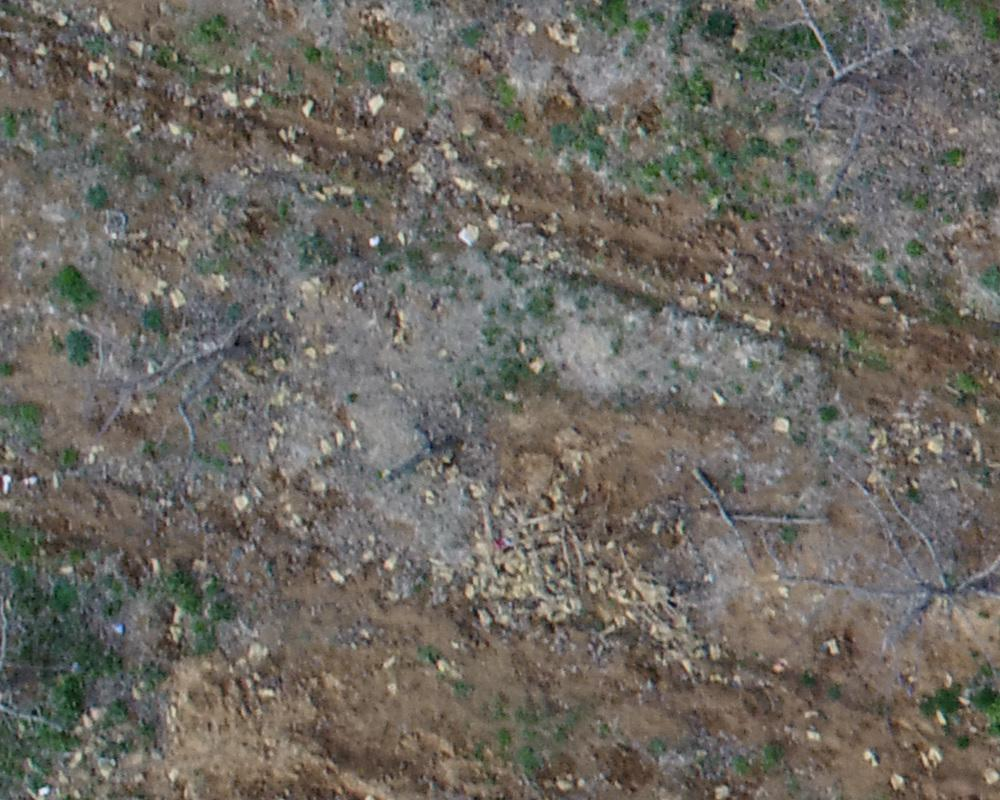apple: (772, 475, 990, 654), (717, 10, 944, 157), (72, 287, 273, 430)
